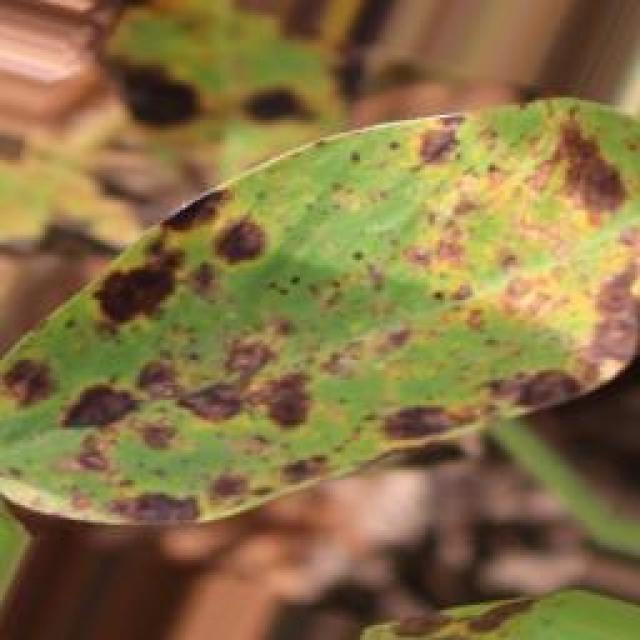Yellowish: (31, 70, 639, 538)
